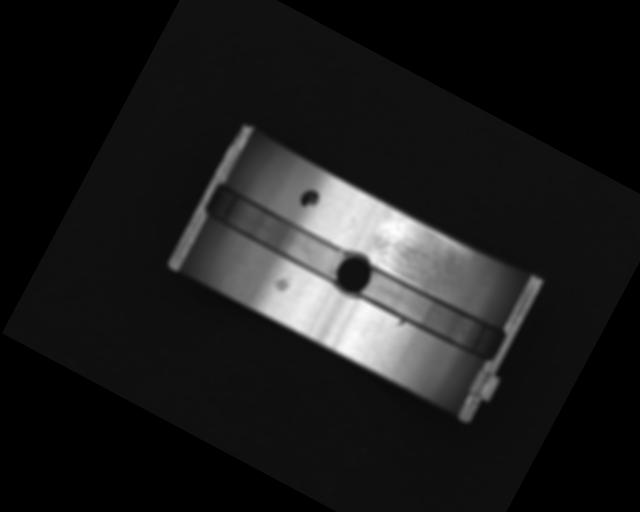blot: (297, 184, 324, 212)
bruise: (270, 272, 294, 296), (395, 317, 406, 329)
gap: (354, 260, 509, 368), (202, 180, 352, 284)
hole: (326, 245, 379, 302)
scratch: (360, 206, 472, 301)
